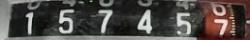digits: (209, 1, 232, 38), (175, 10, 191, 36), (58, 8, 75, 32), (137, 8, 152, 34), (97, 8, 112, 32), (24, 12, 34, 34)
